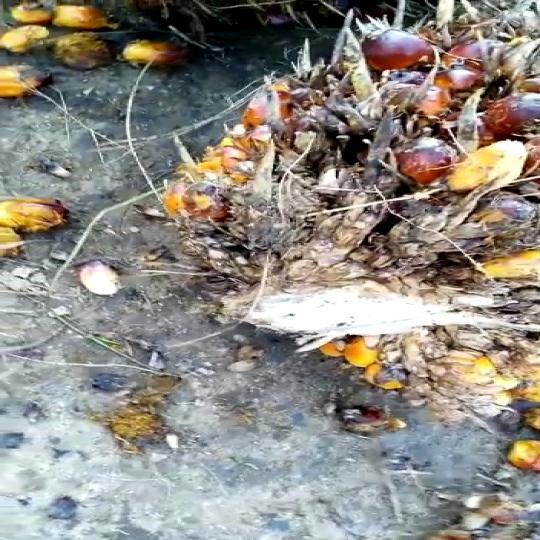masak: (99, 2, 540, 375)
